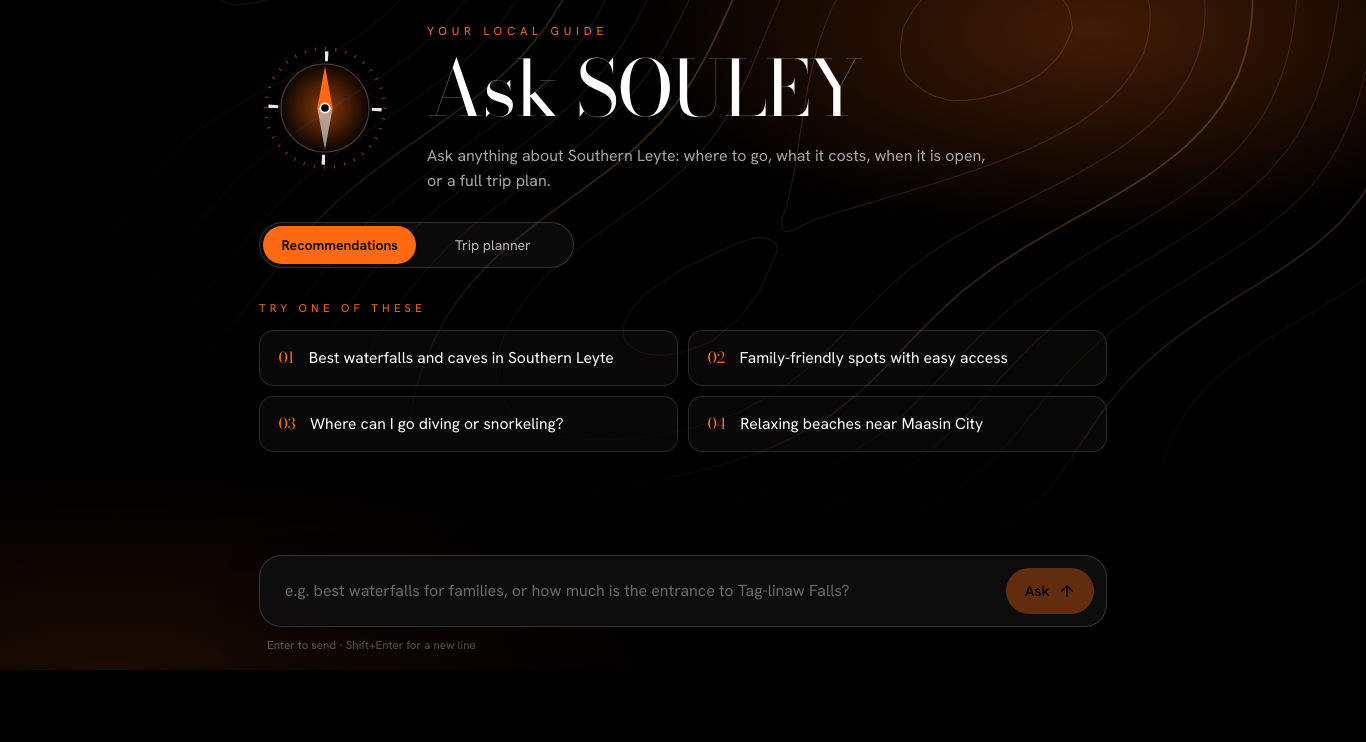
it: Ask page › a failed request shows an alert with Try again, which repeats the same request
Type "waterfalls" into the text box named "your question".
click(633, 591); type("waterfalls")  # box [272, 569, 994, 614]
Then press Enter
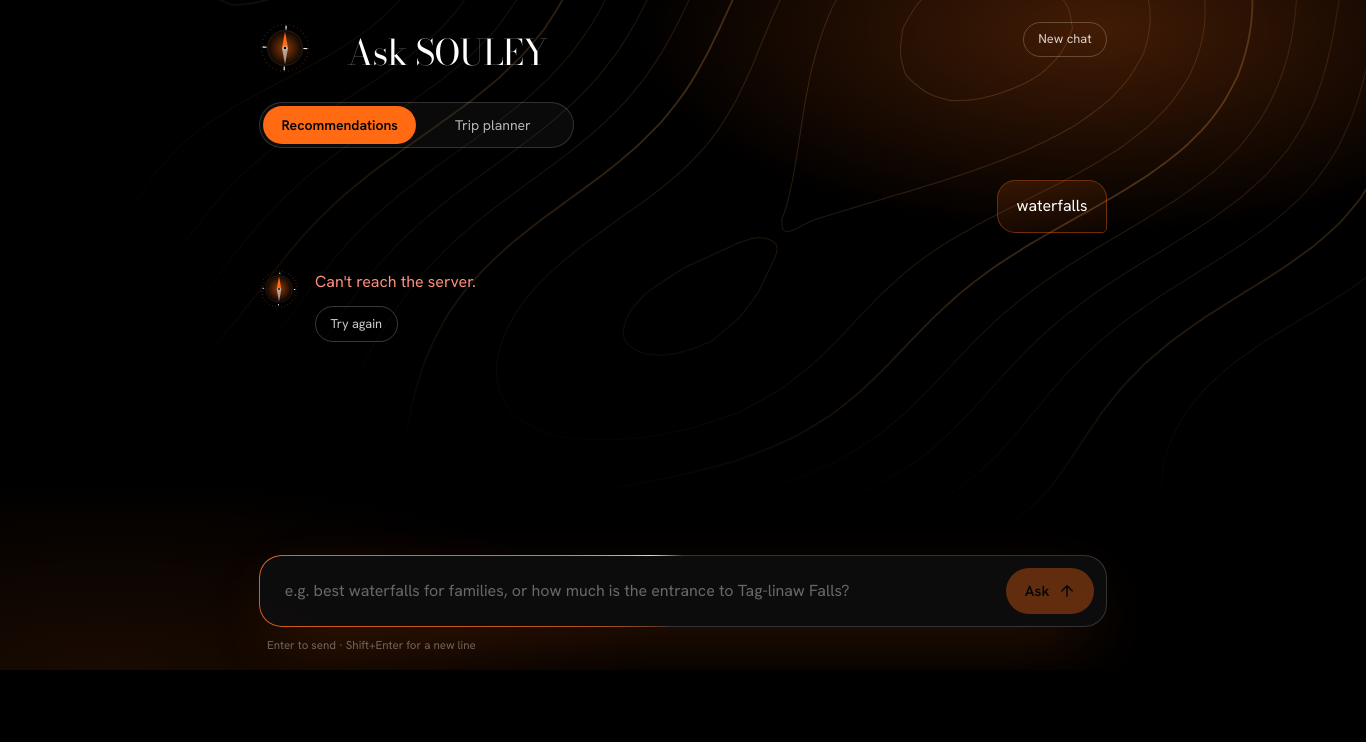
Expected: the message "Can't reach the server." is shown, [315, 269, 476, 294]
Click the button "Try again".
click(356, 324)  # box [315, 306, 398, 342]
(page scrolled)
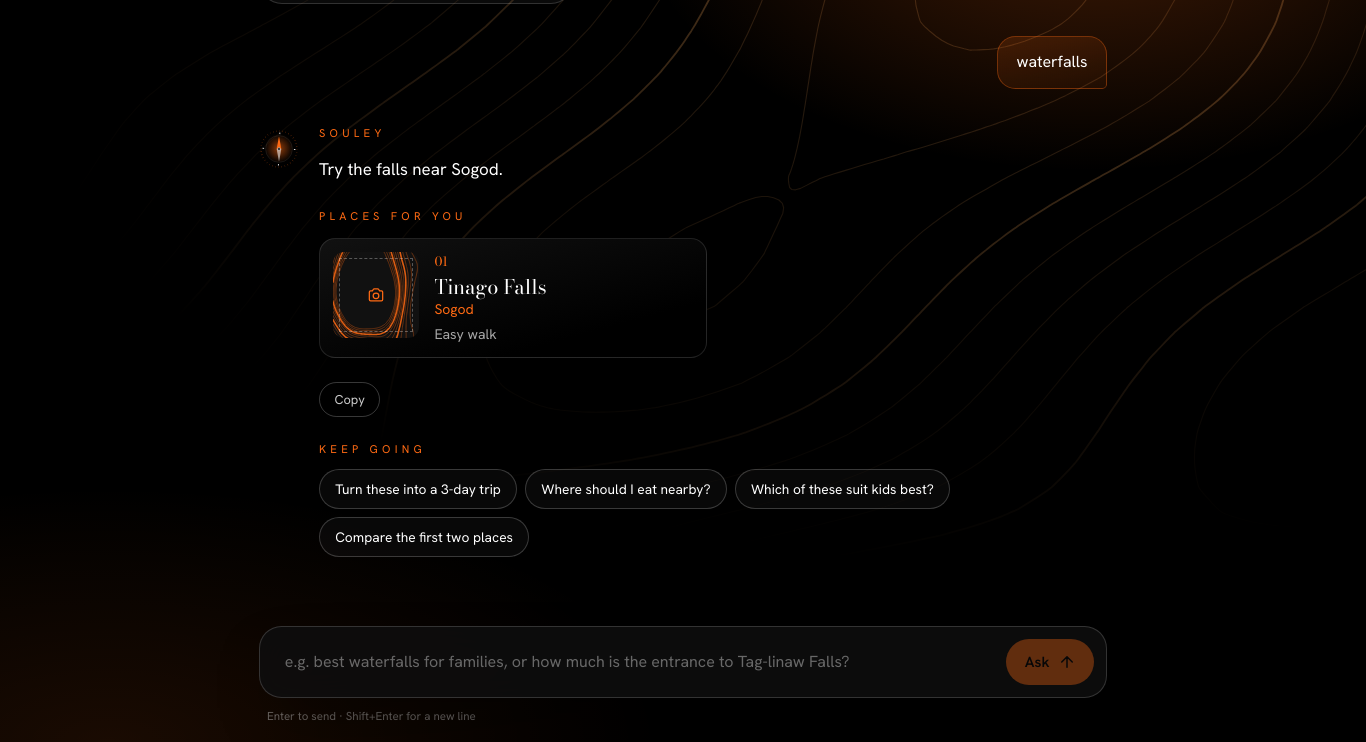
Expected: the text "Try the falls near Sogod." is shown, [319, 158, 503, 180]
Expected: the message "Can't reach the server." is gone
